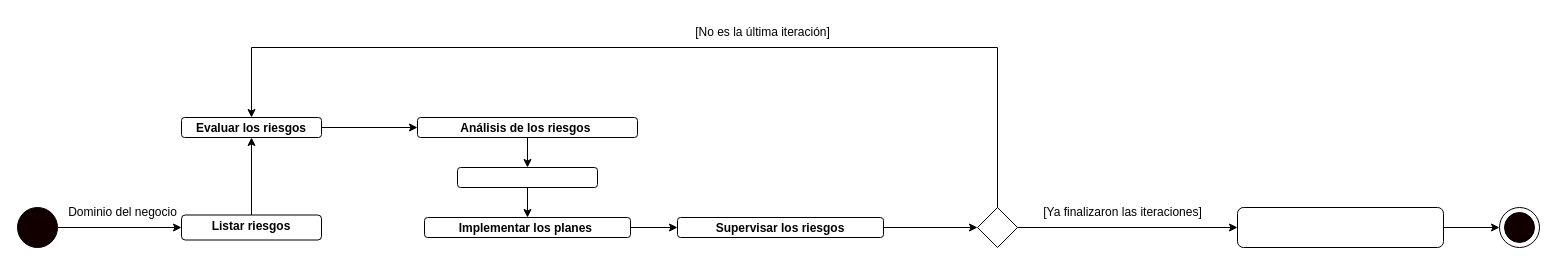
The diagram is 1557 pixels wide and 265 high, and some of its shapes have lost their labels. Each missing label, with the centre of its shape:
"Desarrollar planes" goes at point 527,177.
"Realizar retrospectiva del proceso de gestión de riesgos" goes at point 1340,227.
